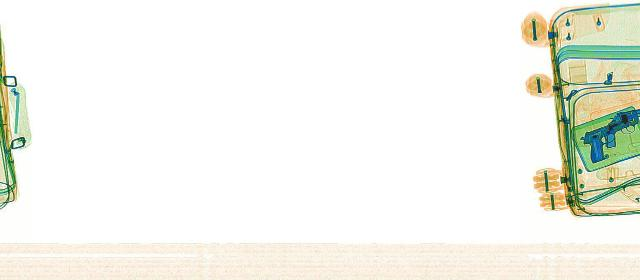Gun: (561, 121, 639, 161), (588, 111, 638, 145)
